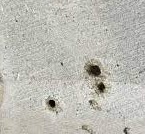Spalling: (83, 58, 104, 81), (44, 95, 60, 113), (92, 81, 108, 96), (87, 98, 102, 112), (80, 123, 97, 134), (123, 126, 132, 134)
